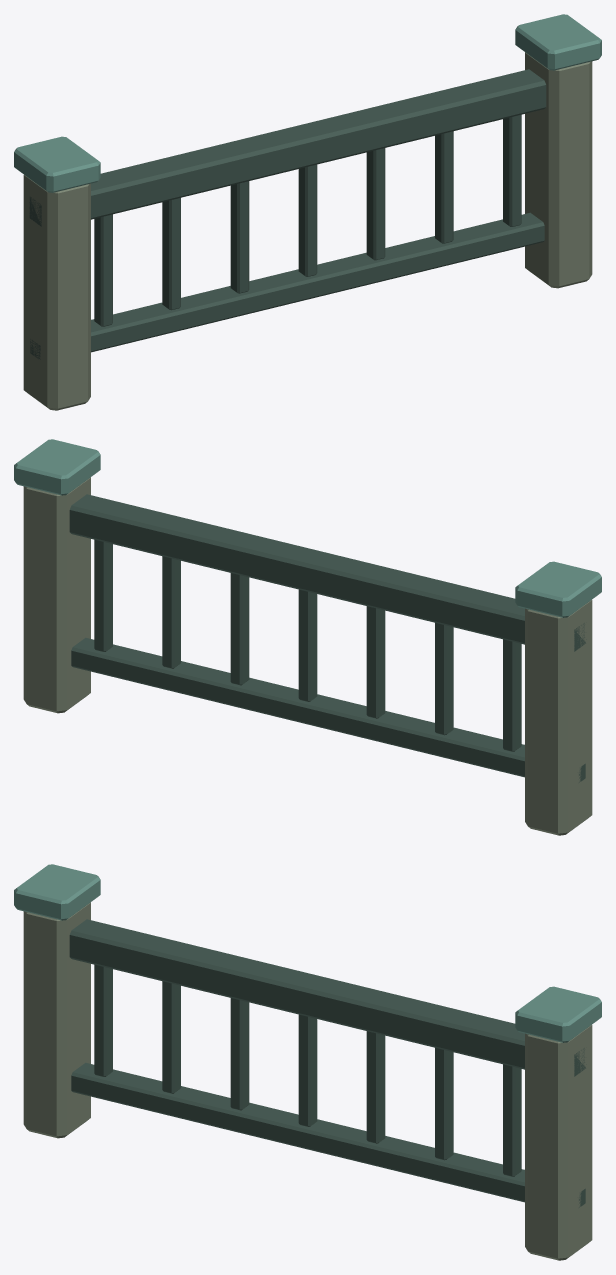
The model's file is railing-straight.glb.
3 renders of one model, top to bottom at view 1: azimuth 30°, elevation 25°; view 2: azimuth 150°, elevation 25°; view 3: azimuth 330°, elevation 25°, orthographic.
Parts seen in each view (by area): view 1: railing-straight__body; view 2: railing-straight__body; view 3: railing-straight__body.
Part boxes in pixels (x1=…): railing-straight__body: x1=14, y1=14, x2=601, y2=410; railing-straight__body: x1=14, y1=439, x2=601, y2=835; railing-straight__body: x1=14, y1=864, x2=601, y2=1260.
Bounding box in the file's own units: 2.04 × 0.85 × 0.24.
